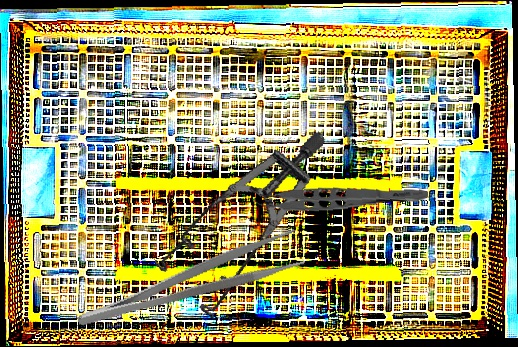Dressing Forceps: (69, 227, 307, 332)
Speculum: (133, 130, 362, 331)
Tissue Forceps: (251, 173, 429, 217)
